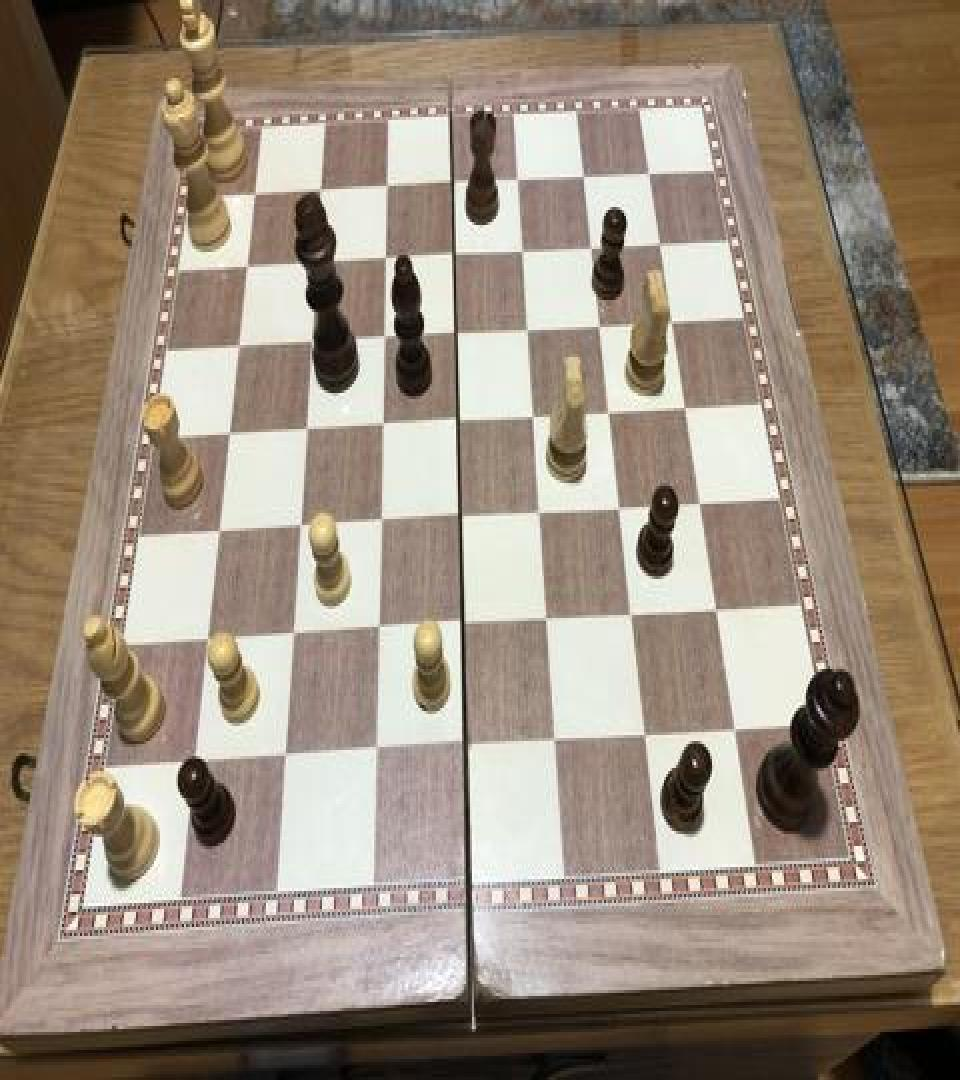xcorner: (280, 616, 304, 653), (195, 622, 219, 659), (721, 712, 745, 749), (363, 733, 387, 770), (273, 739, 297, 776), (633, 158, 657, 194), (568, 160, 592, 196), (503, 164, 527, 200), (438, 168, 462, 204), (373, 171, 397, 207), (308, 174, 332, 210), (242, 178, 266, 214), (644, 228, 668, 264), (576, 231, 600, 267), (508, 236, 532, 272), (440, 238, 464, 274), (372, 243, 396, 279), (303, 246, 327, 282), (235, 249, 259, 285), (657, 304, 681, 340), (585, 309, 609, 345), (514, 314, 538, 350), (442, 316, 466, 352), (370, 321, 394, 357), (298, 326, 322, 362), (670, 392, 694, 428), (595, 394, 619, 430), (520, 399, 544, 435), (444, 404, 468, 440), (369, 408, 393, 444), (217, 416, 241, 452), (685, 486, 709, 522), (606, 490, 630, 526), (526, 495, 550, 531), (447, 500, 471, 536), (367, 504, 391, 540), (287, 508, 311, 544), (207, 513, 231, 549), (702, 592, 726, 628), (618, 597, 642, 633), (534, 603, 558, 639), (450, 608, 474, 644), (365, 612, 389, 648), (632, 717, 656, 753), (542, 723, 566, 759), (453, 729, 477, 765), (183, 744, 207, 780), (226, 329, 250, 364), (293, 413, 317, 448)
